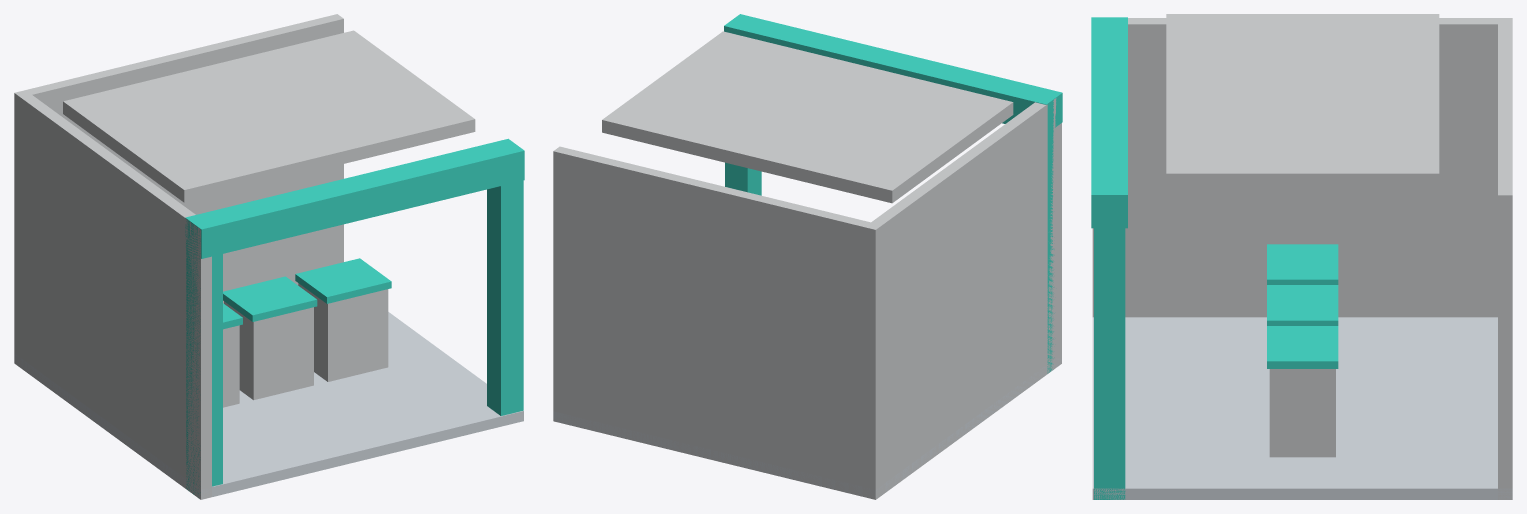
3 views of the same model, side by side, from view 1: azimuth 30°, elevation 25°; view 2: azimuth 150°, elevation 25°; view 3: azimuth 270°, elevation 25° (orthographic). The views are drawn at different scales.
Parts seen in each view (by area): view 1: Exhibition Booth Concept; view 2: Exhibition Booth Concept; view 3: Exhibition Booth Concept.
Boxes of the visible parts, left/top/right/bottom form: Exhibition Booth Concept: left=14, top=14, right=524, bottom=499; Exhibition Booth Concept: left=553, top=14, right=1062, bottom=499; Exhibition Booth Concept: left=1091, top=14, right=1512, bottom=499.
Size of the model in its own units: 4 by 3.34 by 4.02.
